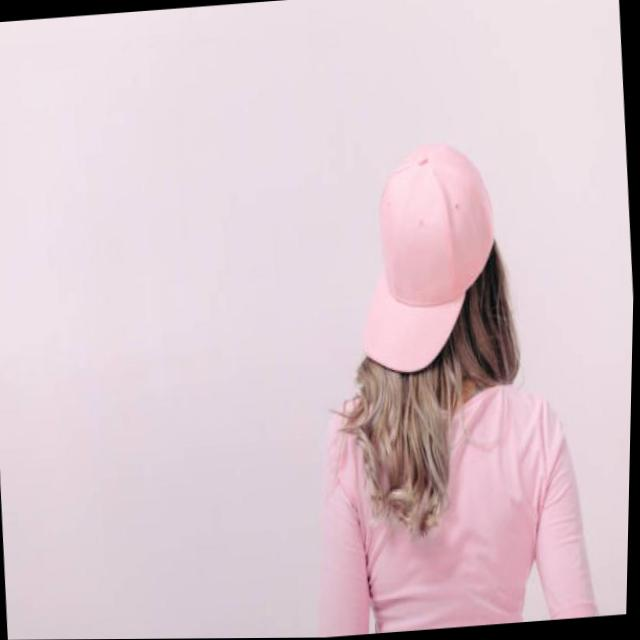no helmet: (327, 126, 539, 420)
